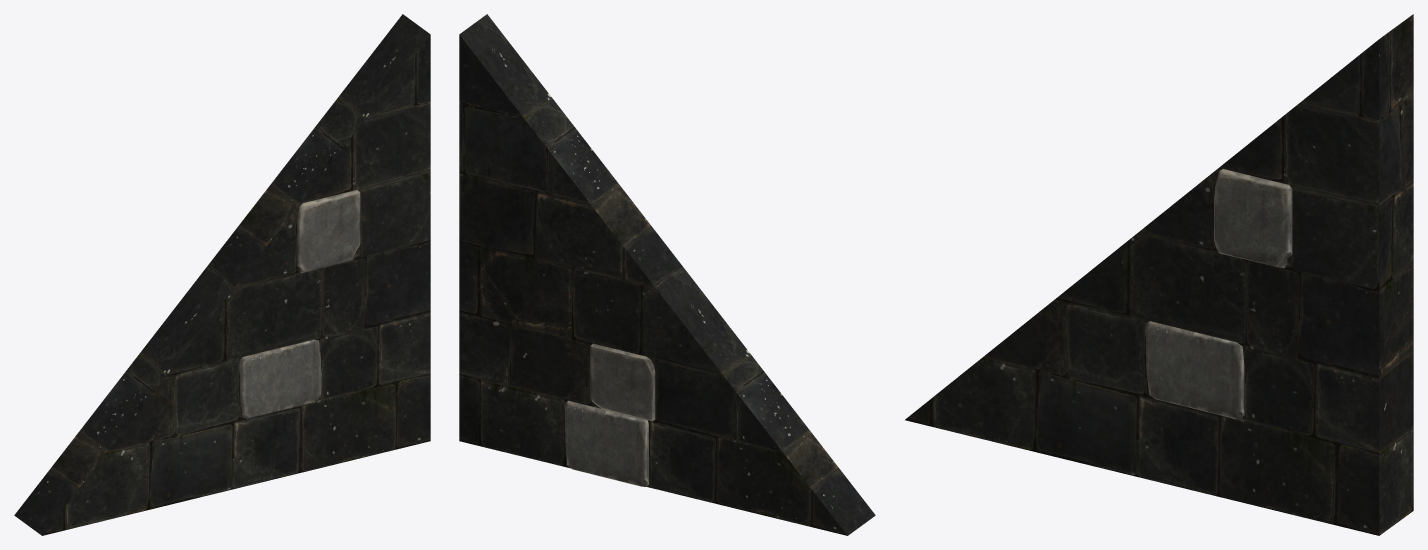
3 renders of one model, left to right at view 1: azimuth 30°, elevation 25°; view 2: azimuth 150°, elevation 25°; view 3: azimuth 330°, elevation 25°, orthographic. The views are drawn at different scales.
Visible parts, largest first — view 1: SM_DeathTemple_Wall_Corner_4x4_01_v1_LOD0; view 2: SM_DeathTemple_Wall_Corner_4x4_01_v1_LOD0; view 3: SM_DeathTemple_Wall_Corner_4x4_01_v1_LOD0.
Part boxes in pixels (box(x1,y1,x2,y2)): SM_DeathTemple_Wall_Corner_4x4_01_v1_LOD0: box(14, 14, 430, 535); SM_DeathTemple_Wall_Corner_4x4_01_v1_LOD0: box(459, 14, 875, 535); SM_DeathTemple_Wall_Corner_4x4_01_v1_LOD0: box(905, 14, 1413, 535).
Size of the model in its own units: 4 by 4 by 0.6304.
Materials: 2 (2 with a texture image).
